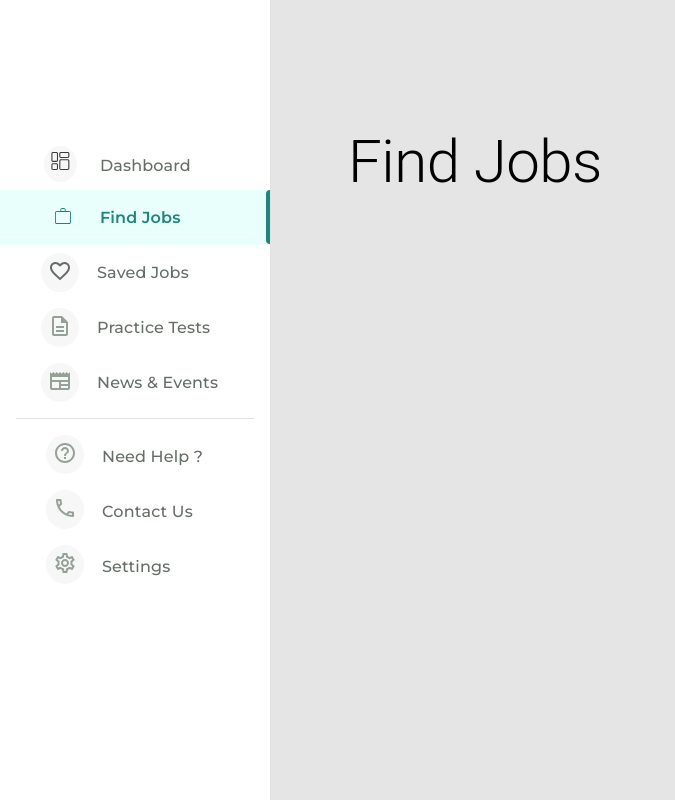
Test: Side Pane SaveJobs Click Test
Click the button with test id "button-test-2".
click(115, 272)  # box [41,253,189,292]
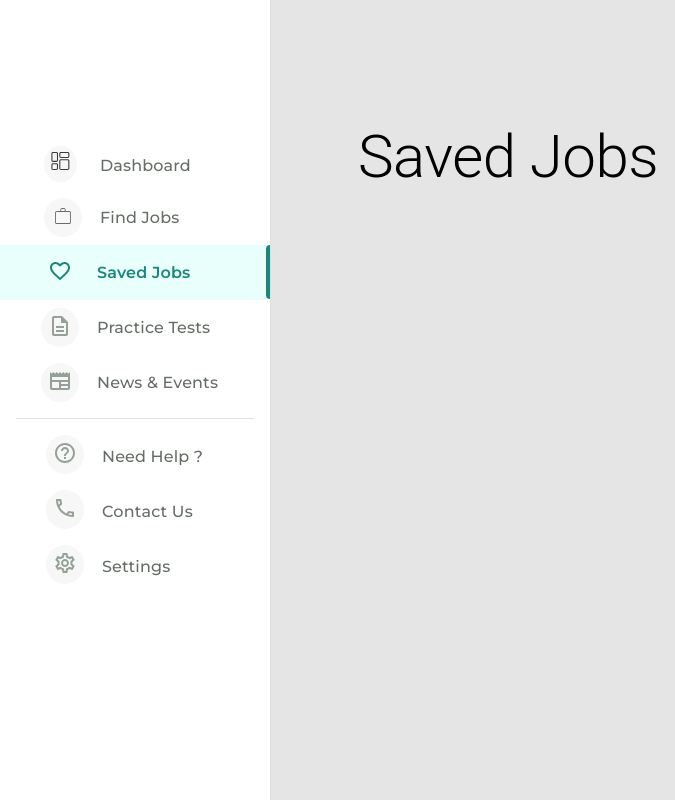
Expected: the element with test id "saved-box" reads "Saved Jobs", [358,121,658,192]
